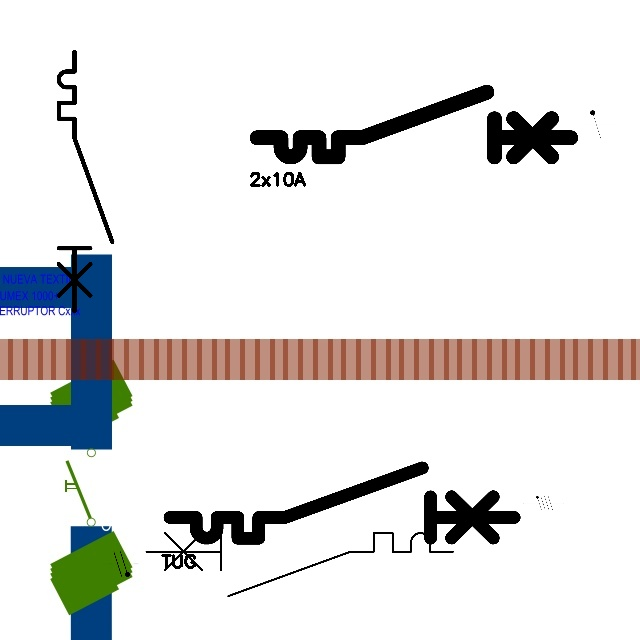interruptor_termomagnetico: (161, 459, 523, 547), (249, 84, 579, 165), (138, 525, 461, 604), (52, 45, 118, 318)
